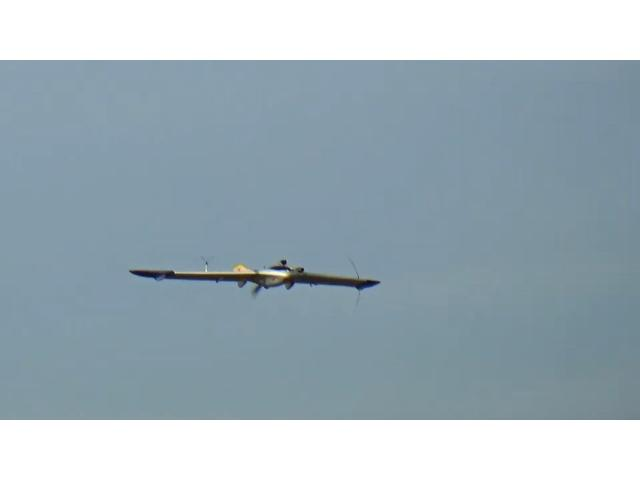Anti-Drone: (129, 262, 381, 292)
